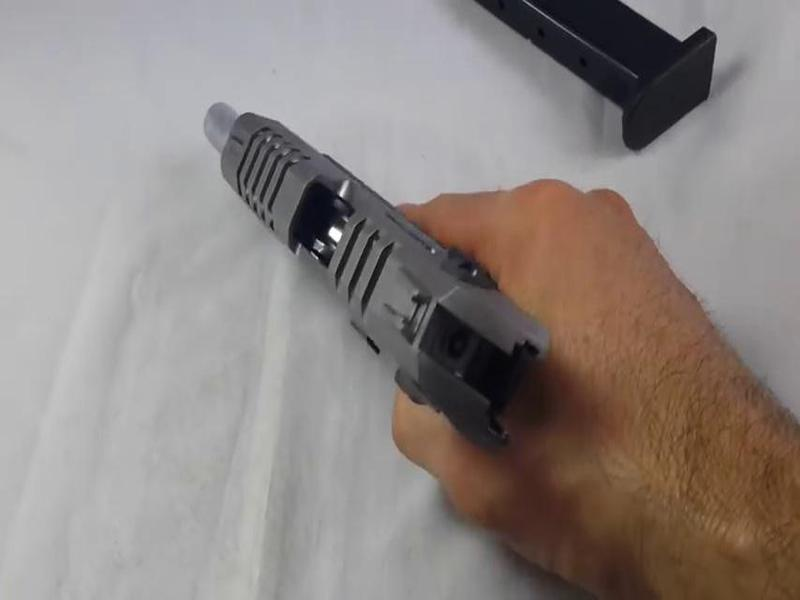Pistola: (186, 67, 540, 461)
